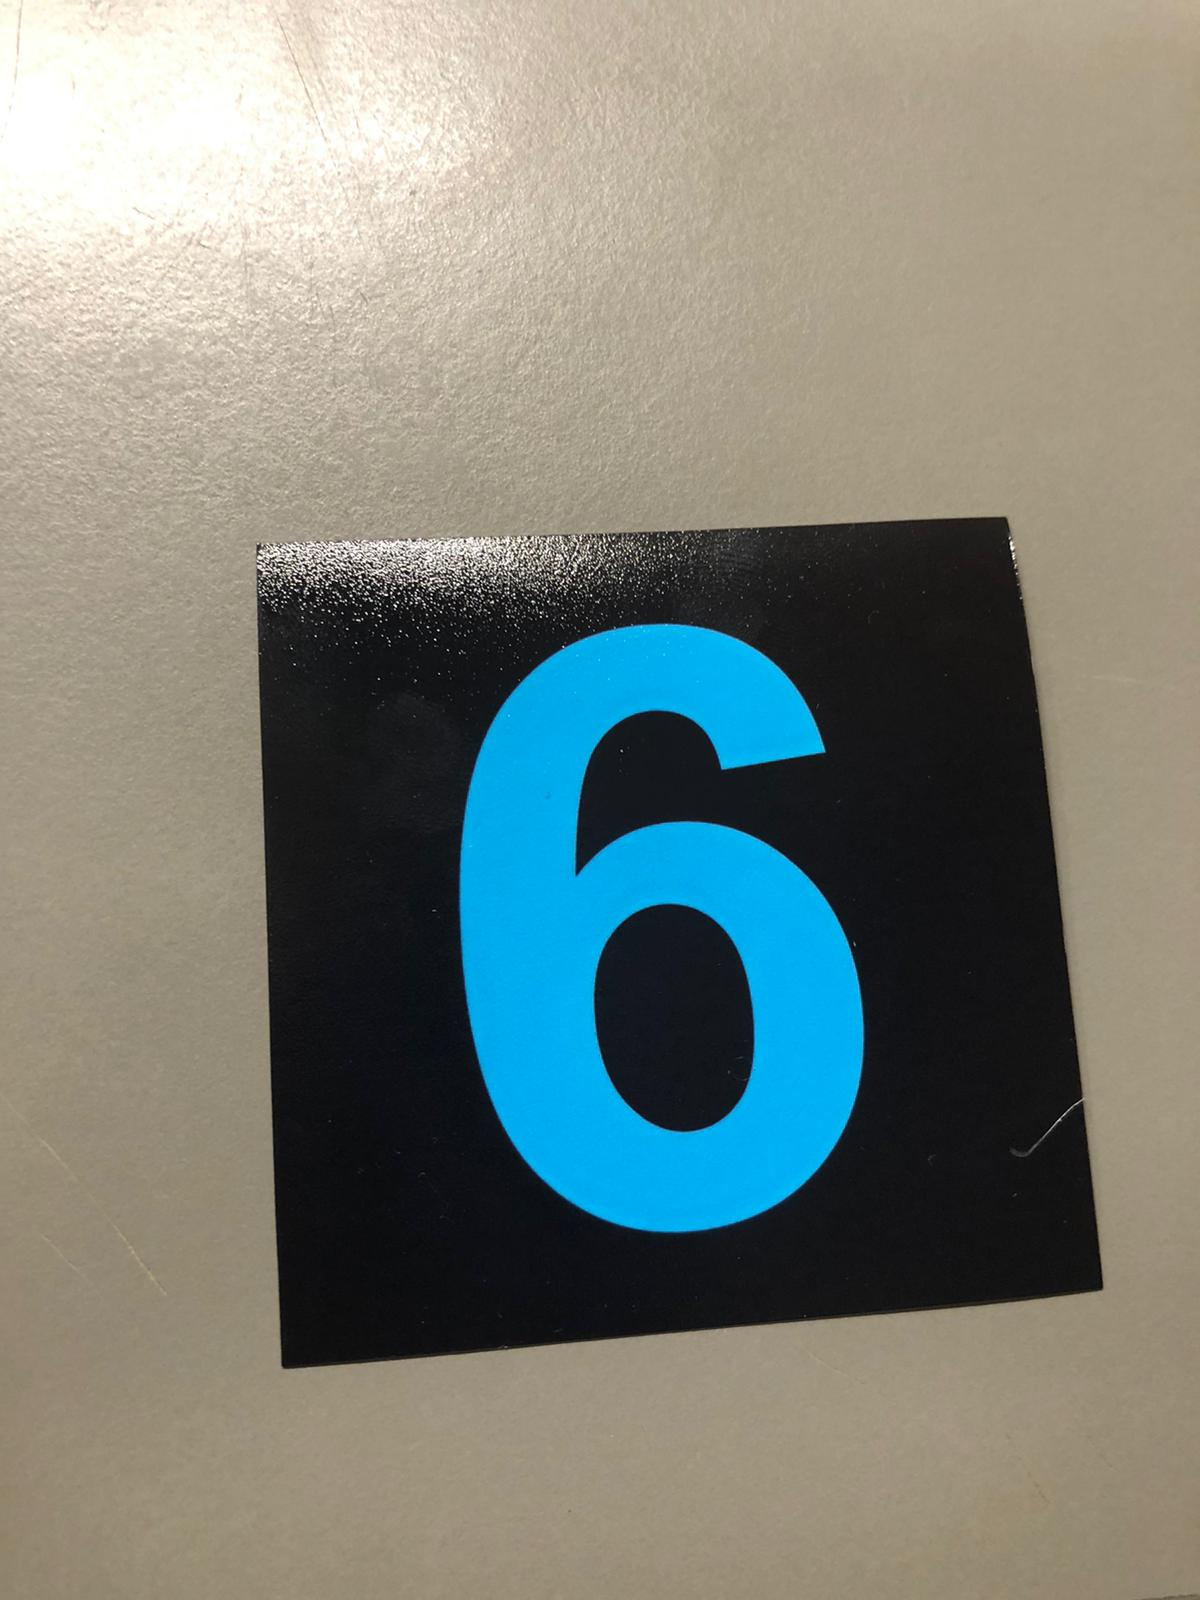Number 6: (255, 559, 1027, 1284)
